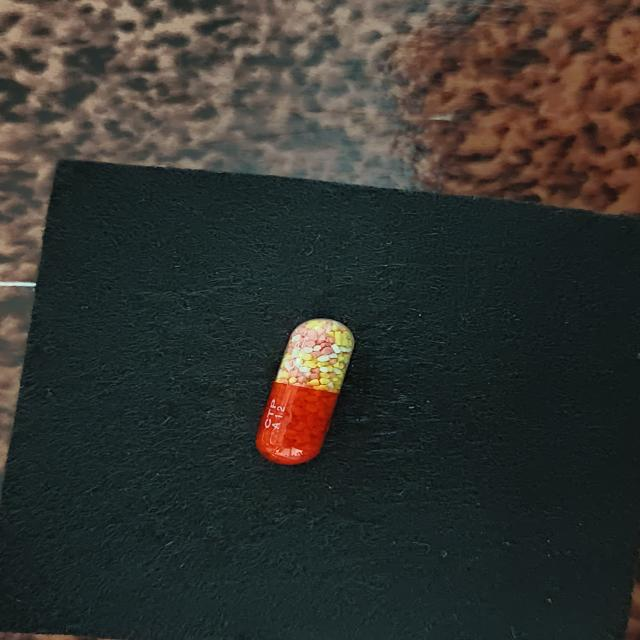Intact Capsule: (255, 318, 354, 465)
